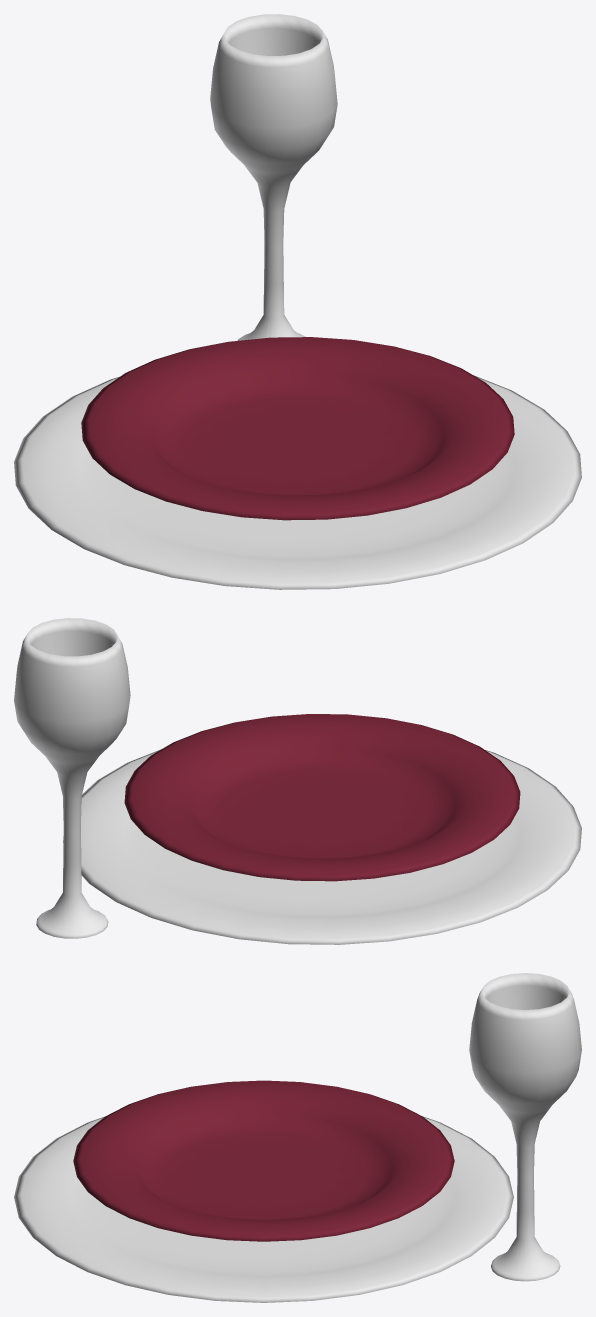
File: plate.fbx
The picture shows the model from 3 angles, top to bottom: view 1: azimuth 30°, elevation 25°; view 2: azimuth 150°, elevation 25°; view 3: azimuth 270°, elevation 25°; orthographic projection. The views are drawn at different scales.
Parts seen in each view (by area): view 1: plate; view 2: plate; view 3: plate.
Boxes of the visible parts, left/top/right/bottom form: plate: left=14, top=14, right=581, bottom=589; plate: left=14, top=618, right=581, bottom=944; plate: left=14, top=973, right=581, bottom=1302.
Bounding box in the file's own units: 0.5711 × 0.3469 × 0.6488.
